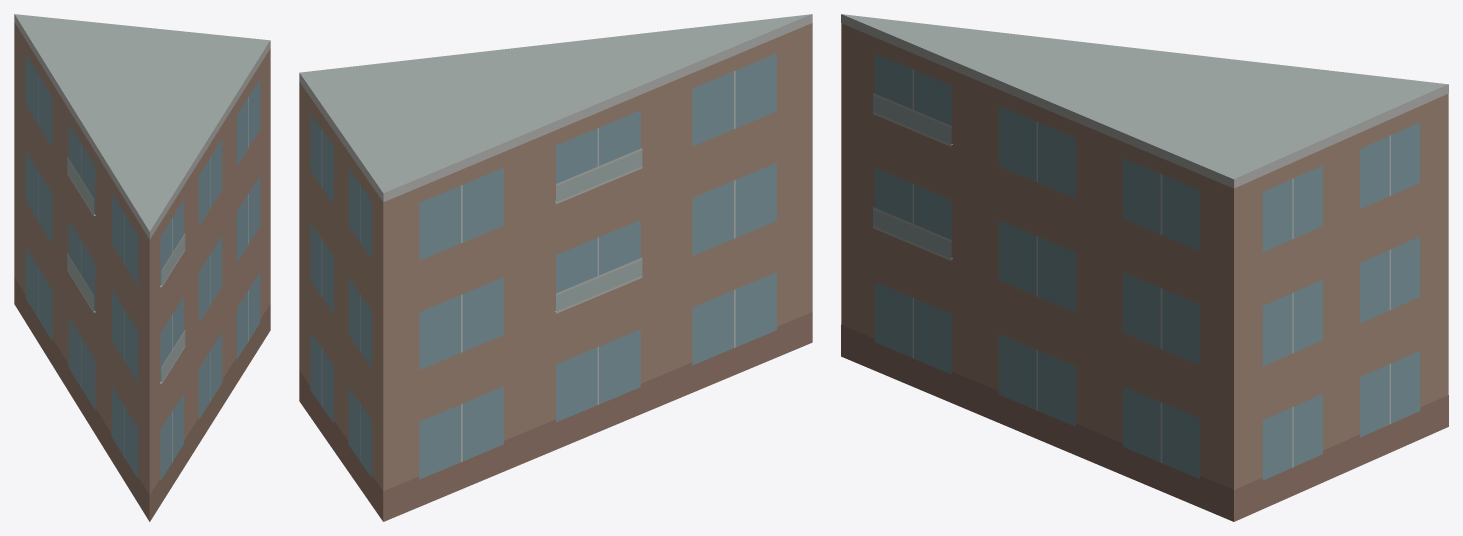
File: survey-upis-33020792.glb
3 views of the same model, side by side, from view 1: azimuth 30°, elevation 25°; view 2: azimuth 150°, elevation 25°; view 3: azimuth 270°, elevation 25° (orthographic). The views are drawn at different scales.
Parts seen in each view (by area): view 1: survey-upis-33020792.tmp; view 2: survey-upis-33020792.tmp; view 3: survey-upis-33020792.tmp.
Boxes of the visible parts, bbox=[...] form: survey-upis-33020792.tmp: bbox=[14, 14, 270, 521]; survey-upis-33020792.tmp: bbox=[299, 14, 812, 521]; survey-upis-33020792.tmp: bbox=[841, 14, 1448, 521].
Size of the model in its own units: 9.49 by 9.15 by 14.72.
